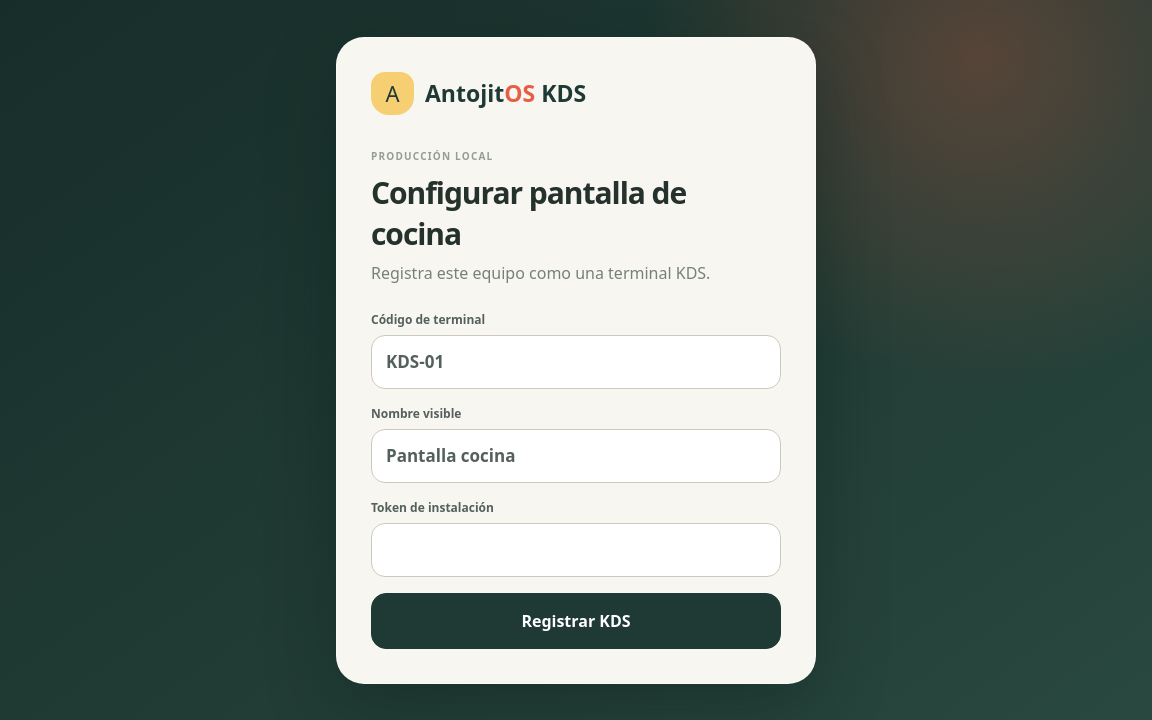
pantalla KDS › registra una terminal con perfil de producción
This screenshot has width=1152, height=720.
Type "bootstrap-secret" into the password field labelled "Token de instalación".
click(576, 550); type("bootstrap-secret")  # box [371,522,781,576]
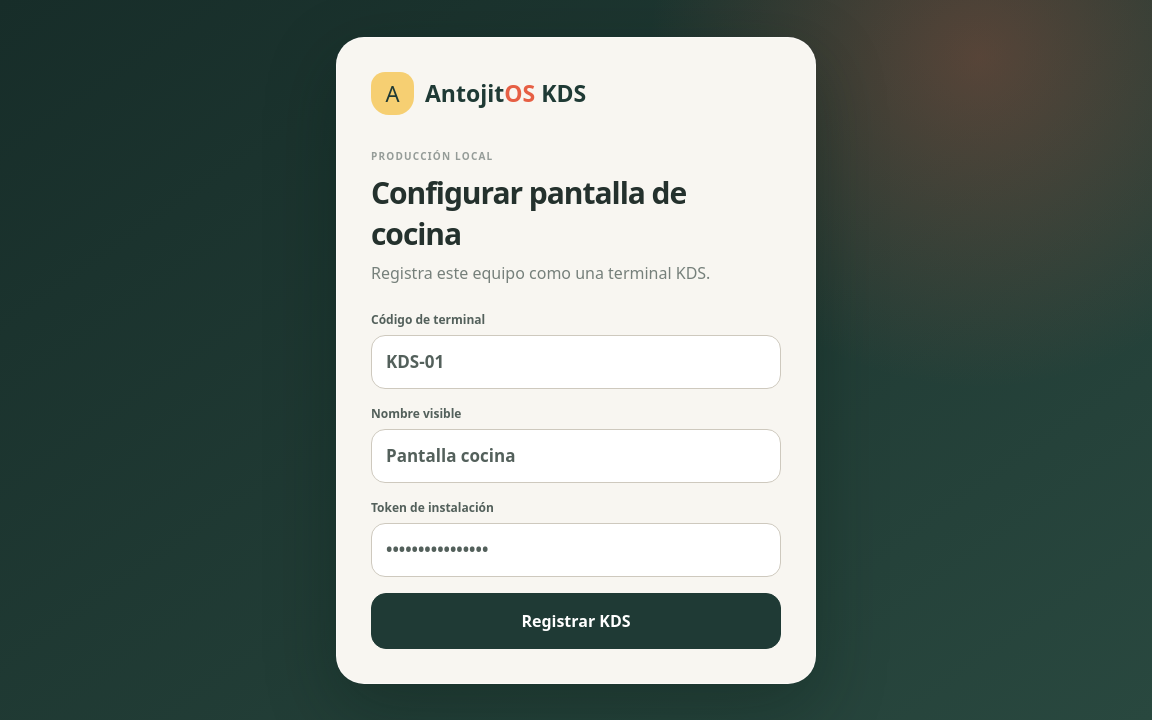
Click the button "Registrar KDS".
click(576, 620)  # box [371,592,781,648]
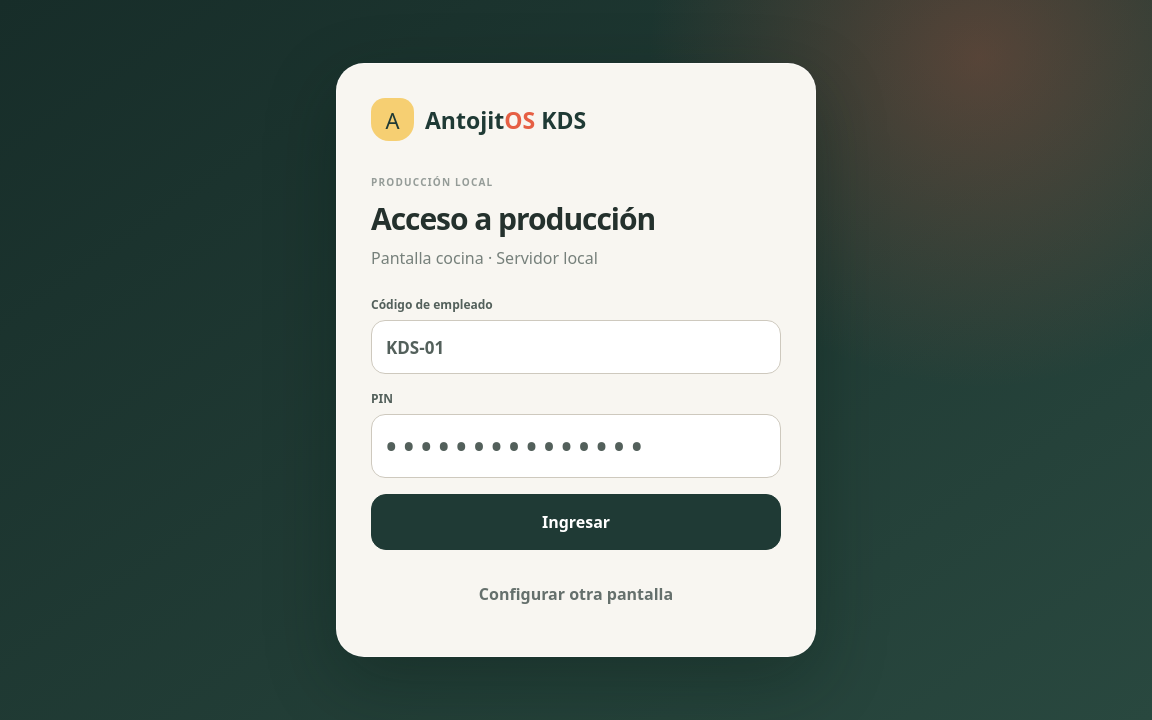
Result: the heading "Acceso a producción" is shown at [371,198,655,239]
